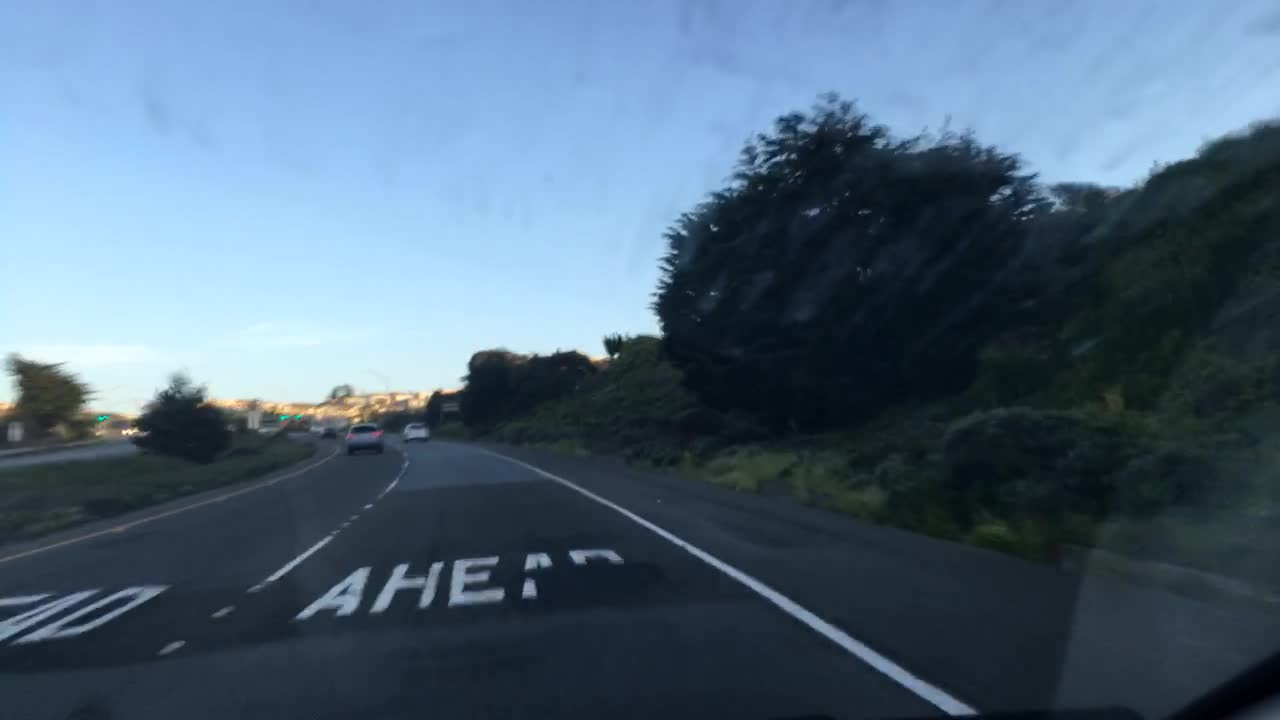bus: (280, 415, 310, 434)
car: (344, 422, 388, 455), (401, 418, 432, 444), (315, 422, 336, 440)
